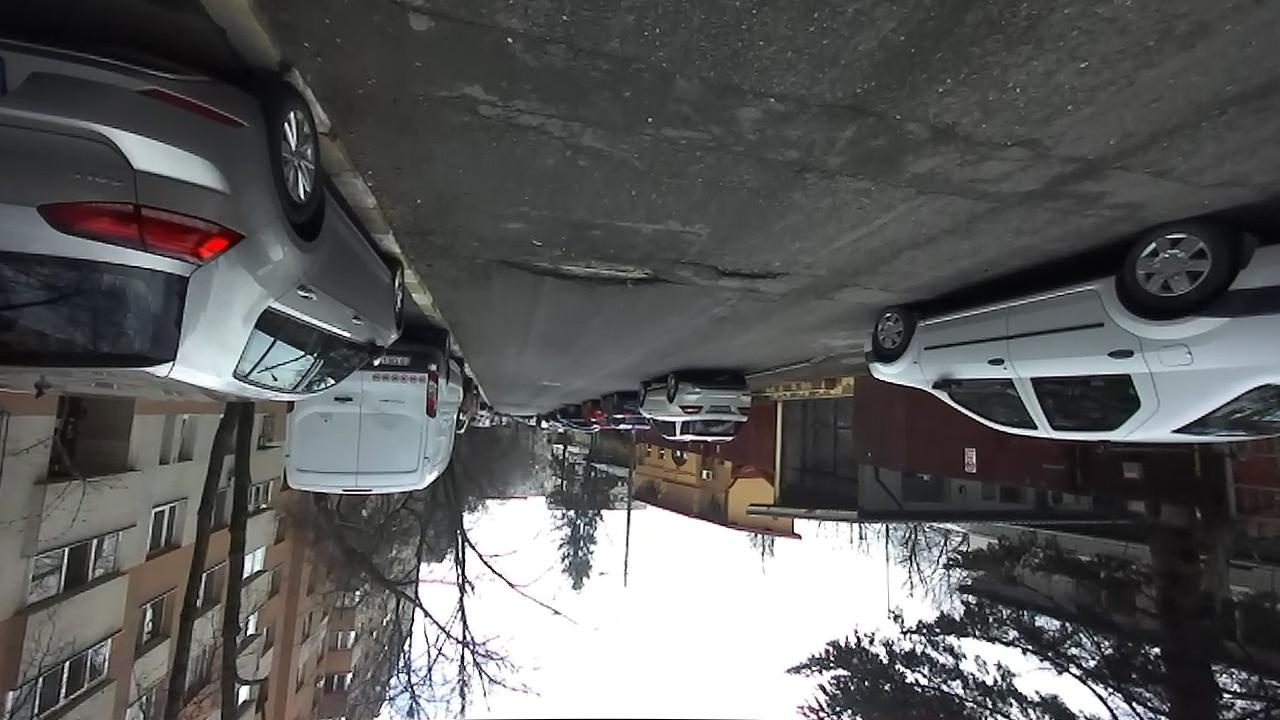pothole: (489, 253, 677, 290), (679, 256, 788, 284)
